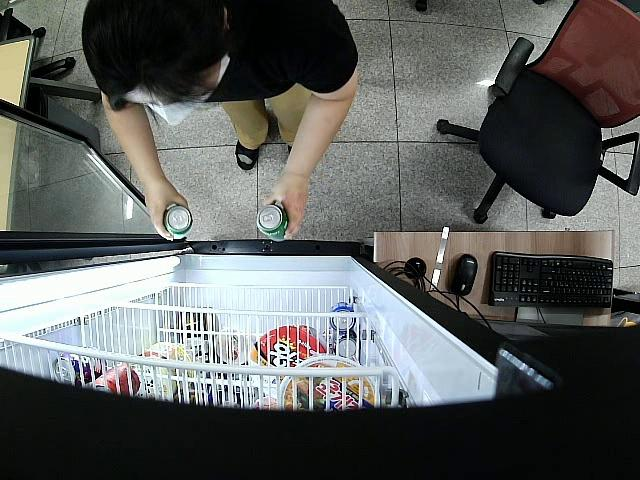00_hand: (261, 179, 309, 238), (145, 183, 189, 241)
12_chilsungCider: (256, 205, 288, 241), (164, 205, 192, 242)
